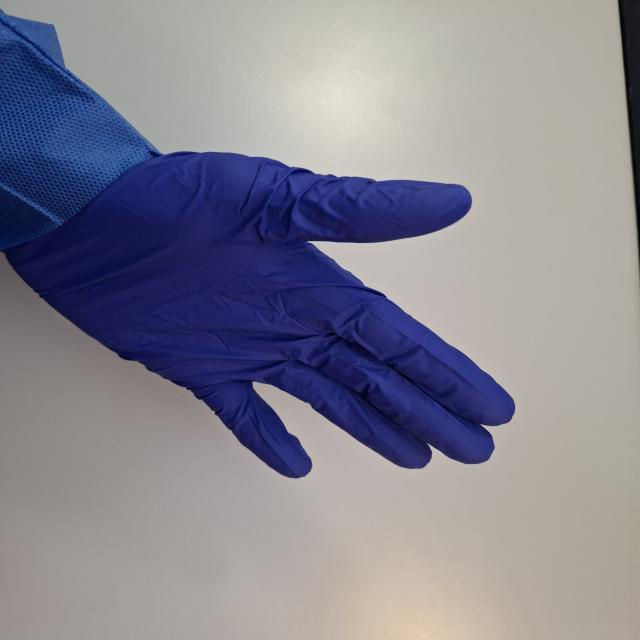glove_on: (1, 146, 520, 483)
